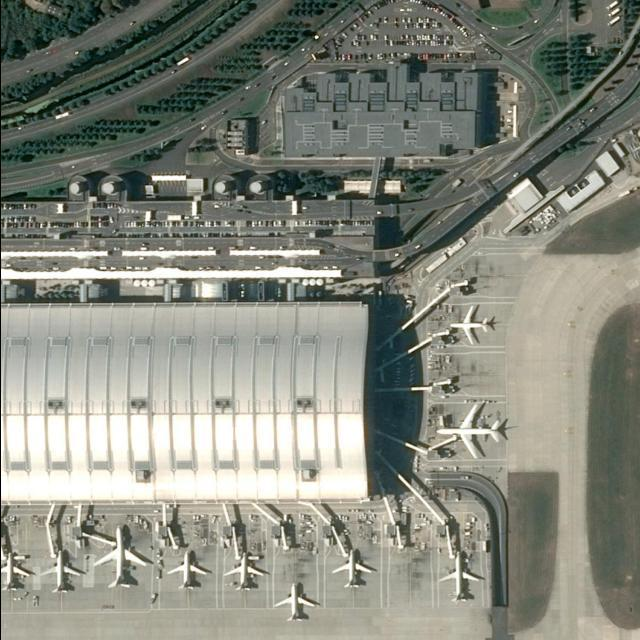Aircraft: (437, 403, 502, 459), (93, 525, 147, 588), (438, 551, 480, 602), (225, 550, 266, 592), (41, 548, 80, 592), (168, 547, 206, 590), (451, 306, 491, 346), (332, 548, 372, 588), (276, 581, 316, 621), (0, 555, 28, 591)
